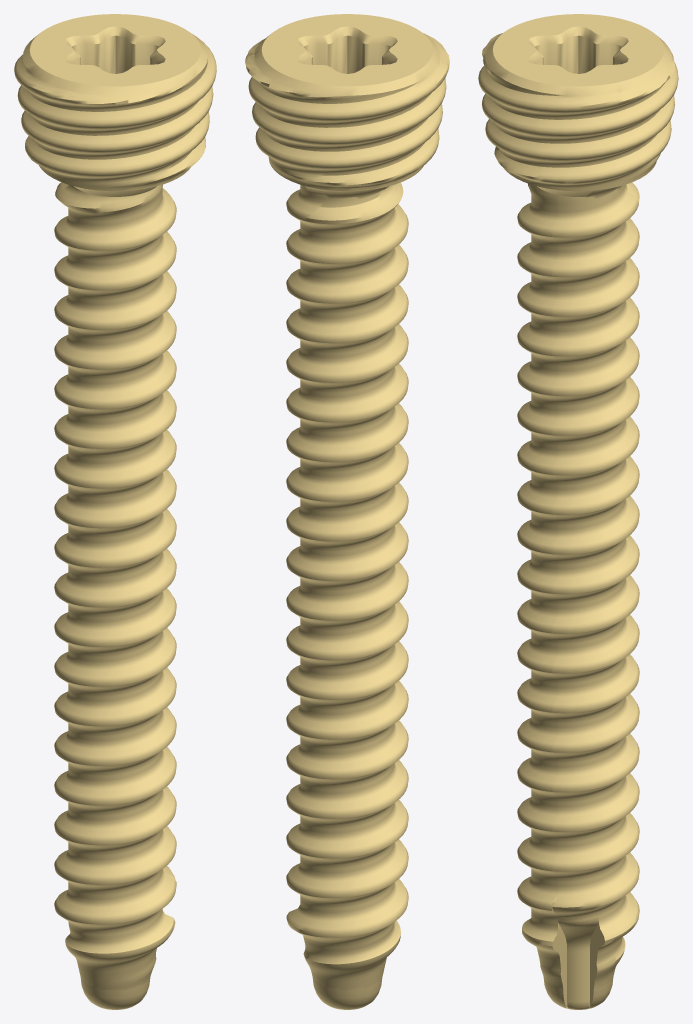
Rendered from os35_locking_3p5x30_lod0.glb.
3 renders of one model, left to right at view 1: azimuth 30°, elevation 25°; view 2: azimuth 150°, elevation 25°; view 3: azimuth 270°, elevation 25°, orthographic.
Parts seen in each view (by area): view 1: os35_locking_3p5x30; view 2: os35_locking_3p5x30; view 3: os35_locking_3p5x30.
Boxes of the visible parts, <box> form: os35_locking_3p5x30: <box>14,14,216,1009</box>; os35_locking_3p5x30: <box>245,14,449,1009</box>; os35_locking_3p5x30: <box>478,14,678,1009</box>.
Bounding box in the file's own units: 0.00582 × 0.03 × 0.00572.
